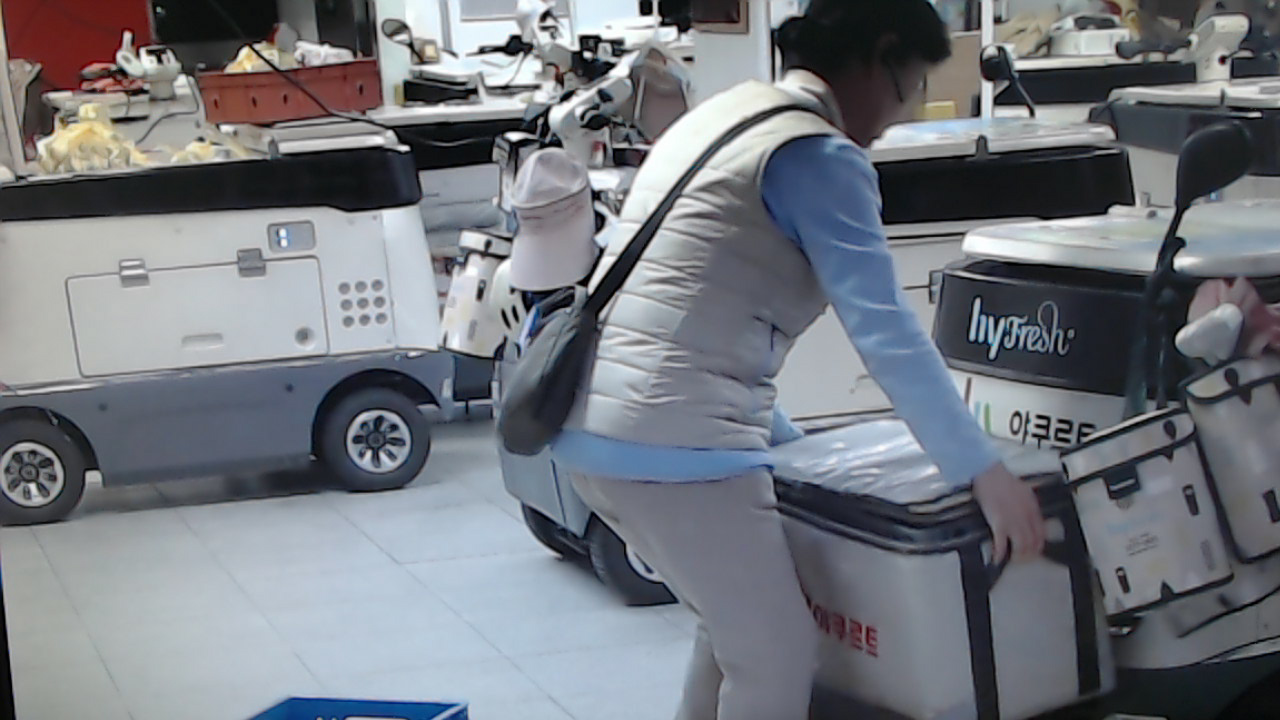Yakurut: (493, 3, 1057, 720)
